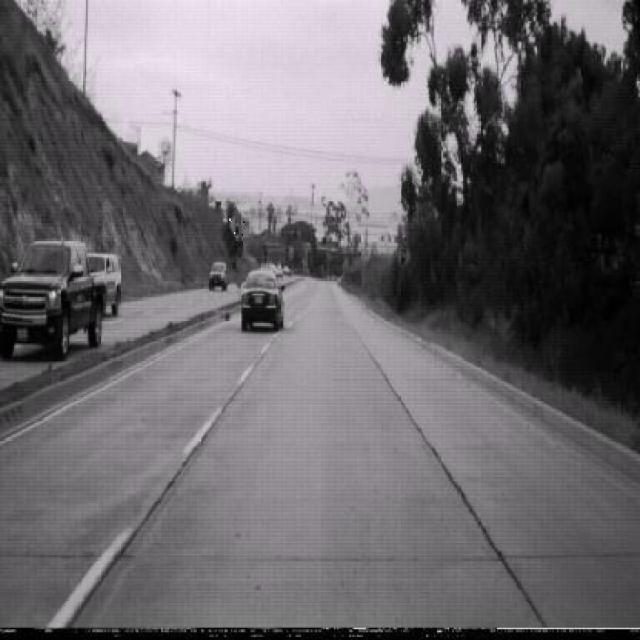signalAhead: (231, 204, 249, 242), (394, 235, 411, 271)
